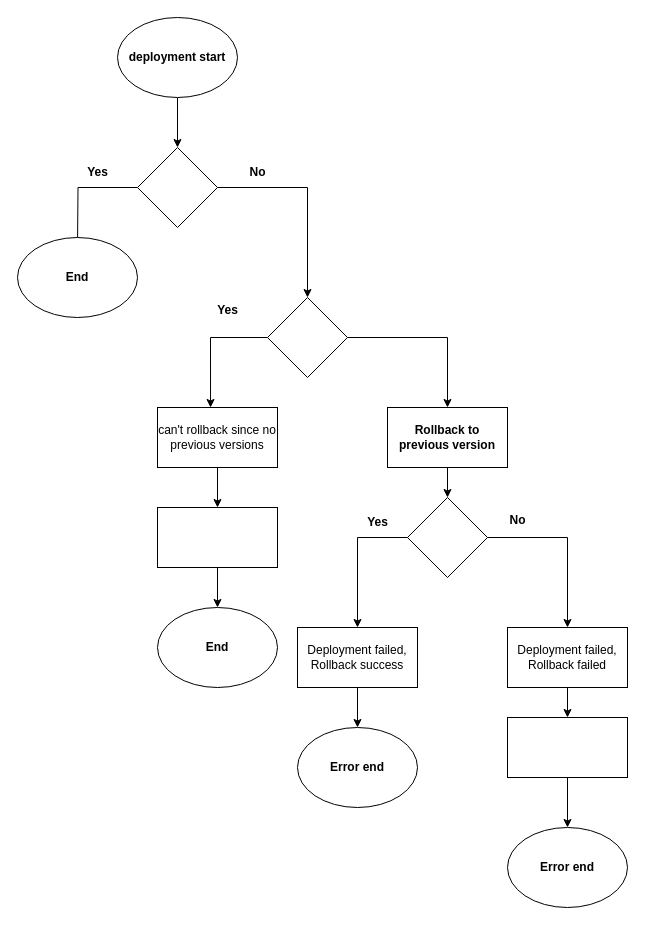
The diagram is 645 pixels wide and 925 high, and some of its shapes have lost their labels. Each missing label, with the centre of its shape:
"Emergency business down" goes at (x=567, y=747).
"Error" goes at (x=217, y=537).
"first time" goes at (x=307, y=337).
"Rollbck success" goes at (x=447, y=537).
"Success" goes at (x=177, y=187).
